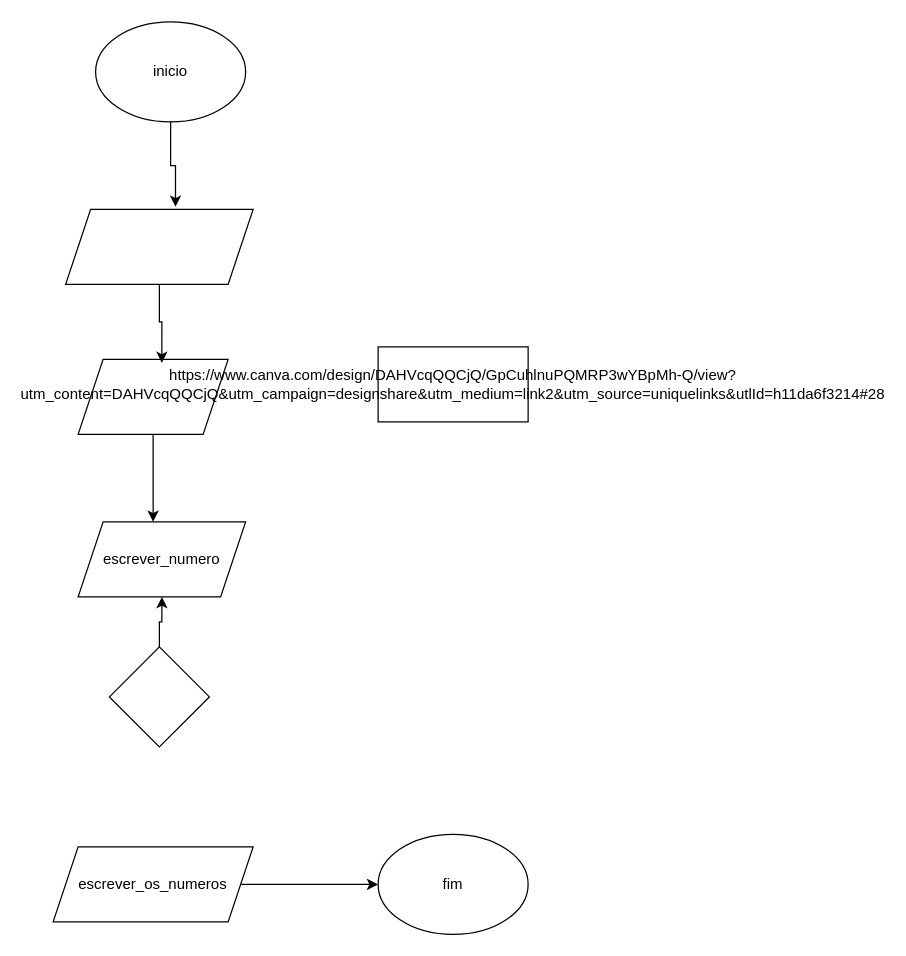
Some shapes in this 906 by 956 pixel diagram are drawn without their labels. Each missing label, with the box of its shape:
ler_numero: (77, 358, 228, 434)
quantos_n_queres somar: (64, 208, 253, 284)
